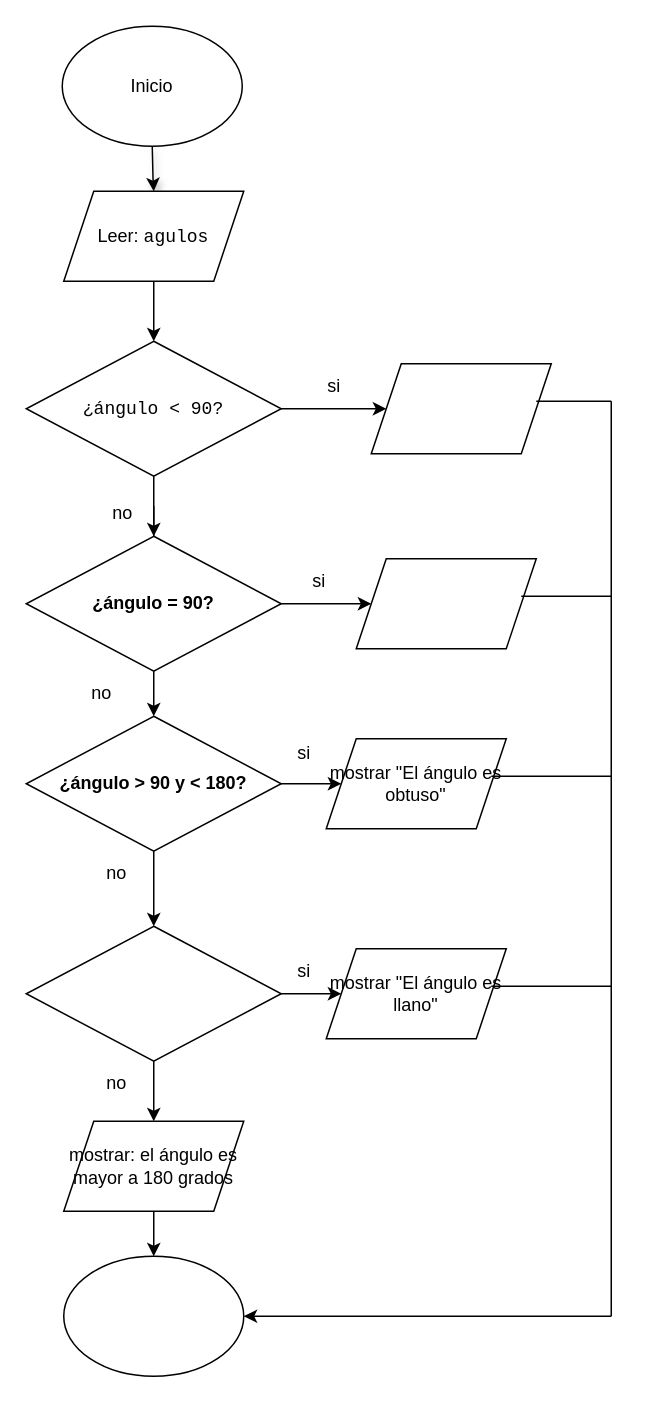
Some shapes in this 650 by 1403 pixel diagram are drawn without their labels. The centre of each missing label's shape, as x and y in pixels:
fin: (x=153, y=1315)
mostrar " el angulo es un agudo": (x=460, y=408)
mostrar " el ángulo es recto": (x=445, y=603)
¿ángulo = 180?: (x=153, y=993)
